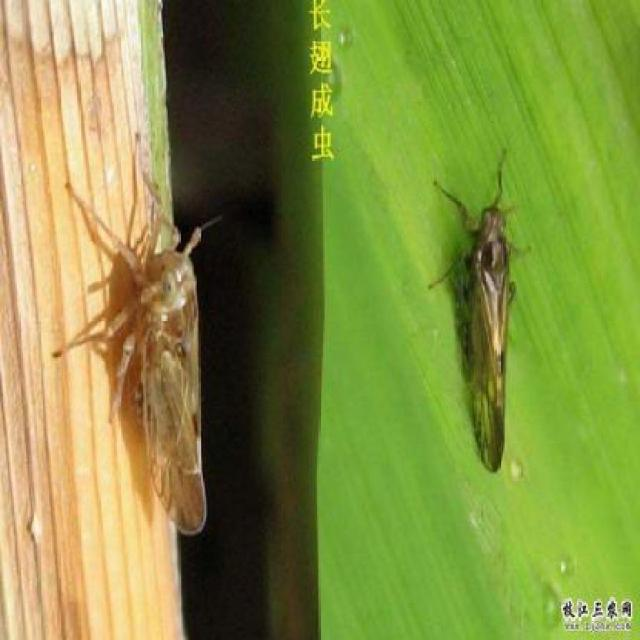brown-planthopper: (118, 240, 211, 537), (462, 203, 516, 474)
